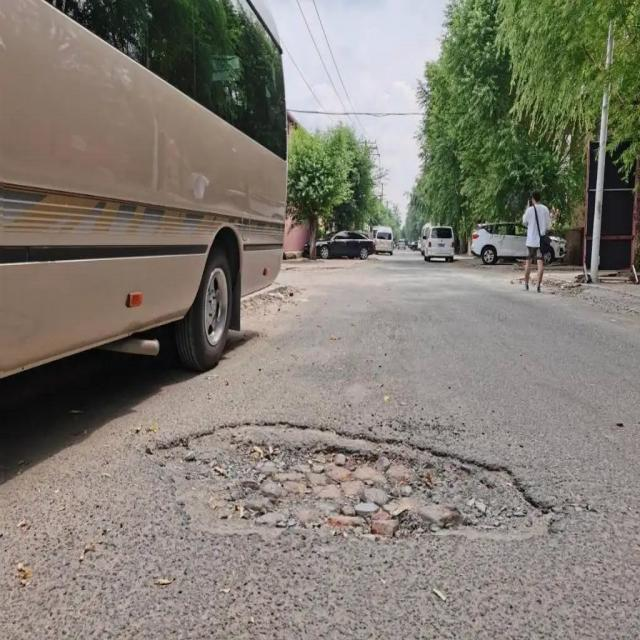Pothole: (143, 420, 562, 546)
